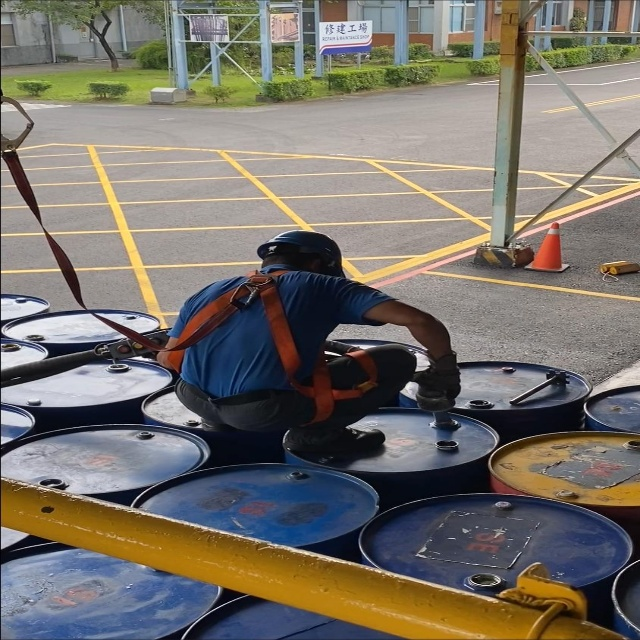Arnes_seguridad: (152, 268, 382, 433)
